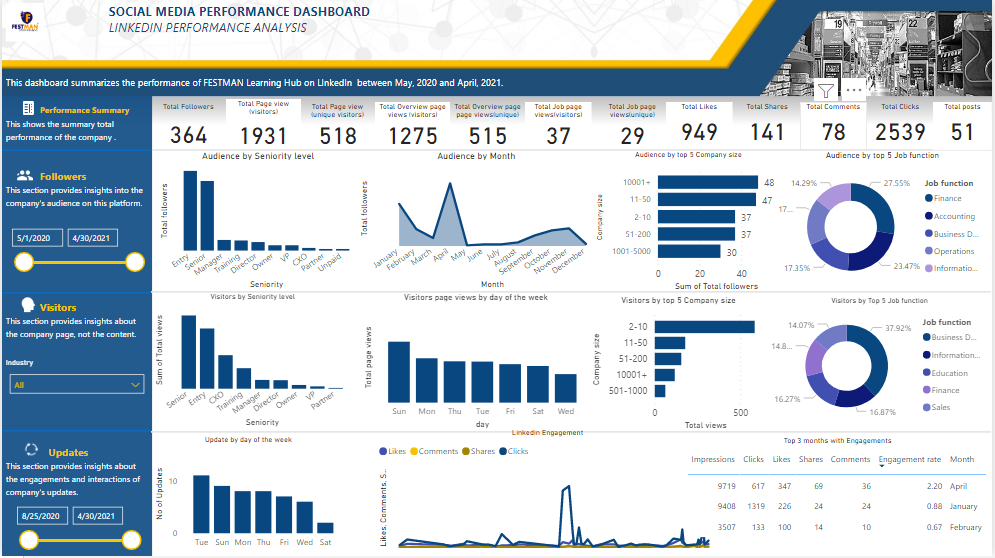

The dashboard page shown, as its layout file describes it:
{"tool":"powerbi","page":{"name":"Dashboard","canvas":[1280,720],"ordinal":0},"visuals":[{"type":"textbox","box":[133.5,0,434.9,78.5],"z":0},{"type":"image","box":[0,0,59,60],"z":1000},{"type":"textbox","box":[0,125,194,595],"z":2000},{"type":"shape","box":[0,178,194,34],"z":3000},{"type":"textbox","box":[0,93.2,989.2,32],"z":4000},{"type":"shape","box":[0,360,194,38],"z":5000},{"type":"shape","box":[0,539,194,38],"z":6000},{"type":"image","box":[15,125,37,31],"z":7000},{"type":"image","box":[8,212,44,32],"z":8000},{"type":"image","box":[15,379,37,33],"z":9000},{"type":"image","box":[23,567,29,29],"z":10000},{"type":"card","title":"Total Followers","fields":{"Values":["Sum(new follo.Total followers)"]},"box":[194,133,94,70],"z":11000},{"type":"card","title":"Total  Page view (visitors)","fields":{"Values":["Sum(visitors metrics.Total page views (total))"]},"box":[289,129,97,70],"z":12000},{"type":"card","title":"Total Page view (unique visitors)","fields":{"Values":["Sum(visitors metrics.Total unique visitors (total))"]},"box":[385,133,97,62],"z":13000},{"type":"card","title":"Total  Overview page views (visitors)","fields":{"Values":["Sum(visitors metrics.Overview page views (total))"]},"box":[482,133,97,62],"z":14000},{"type":"card","title":"Total Overview page  page views(unique)","fields":{"Values":["Sum(visitors metrics.Overview unique visitors (total))"]},"box":[579,133,97,62],"z":15000},{"type":"card","title":"Total Job page views(visitors)","fields":{"Values":["Sum(visitors metrics.Jobs page views (total))"]},"box":[676,133,86,62],"z":16000},{"type":"columnChart","title":"Audience by Seniority level","fields":{"Category":["seniority.Seniority"],"Y":["Sum(seniority.Total followers)"]},"box":[199,195,264,184],"z":17000},{"type":"card","title":"Total Job page views(unique)","fields":{"Values":["Sum(visitors metrics.Jobs unique visitors (total))"]},"box":[772,133,86,62],"z":18000},{"type":"card","title":"Total Likes","fields":{"Values":["Sum(Sheet1.Likes)"]},"box":[858,133,86,62],"z":19000},{"type":"card","title":"Total Shares","fields":{"Values":["Sum(Sheet1.Shares)"]},"box":[946,133,86,62],"z":20000},{"type":"card","title":"Total Comments","fields":{"Values":["Sum(Sheet1.Comments)"]},"box":[1032,133,86,62],"z":21000},{"type":"card","title":"Total Clicks","fields":{"Values":["Sum(Sheet1.Clicks)"]},"box":[1118,133,86,62],"z":22000},{"type":"shape","box":[194,168,1086,54],"z":23000},{"type":"slicer","fields":{"Values":["new follo.Date"]},"box":[0,287,193,73],"z":24000},{"type":"areaChart","title":"Audience by Month","fields":{"Category":["new follo.Date.Variation.Date Hierarchy.Month","new follo.Date.Variation.Date Hierarchy.Day"],"Y":["Sum(new follo.Total followers)"]},"box":[457,195,311,184],"z":25000},{"type":"donutChart","title":"Audience by top 5 Job function","fields":{"Category":["job function.Job function"],"Y":["Sum(job function.Total followers)"]},"box":[997,195,283,187],"z":26000},{"type":"clusteredBarChart","title":"Audience  by top 5 Company size","fields":{"Category":["company size.Company size"],"Y":["Sum(company size.Total followers)"]},"box":[763,195,249,187],"z":27000},{"type":"shape","box":[193,352,1086,54],"z":28000},{"type":"shape","box":[193,533,1086,54],"z":29000},{"type":"lineChart","title":"Linkedin Engagement","fields":{"Category":["Sheet1.Created date"],"Y":["Sum(Sheet1.Likes)","Sum(Sheet1.Comments)","Sum(Sheet1.Shares)","Sum(Sheet1.Clicks)"]},"box":[482,554,446,160],"z":30000},{"type":"slicer","fields":{"Values":["Sheet1.Created date"]},"box":[6,646,182,74],"z":31000},{"type":"tableEx","title":"Top 3 months with Engagements","fields":{"Values":["Sum(Sheet1.Impressions)","Sum(Sheet1.Clicks)","Sum(Sheet1.Likes)","Sum(Sheet1.Shares)","Sum(Sheet1.Comments)","Sum(Sheet1.Engagement rate)","Sheet1 (2).Created date.Variation.Date Hierarchy.Month"]},"box":[880,565,400,153],"z":32000},{"type":"donutChart","title":"Visitors by Top 5 Job function","fields":{"Category":["job function (2).Job function"],"Y":["Sum(job function (2).Total views)"]},"box":[989,384,291,170],"z":33000},{"type":"clusteredColumnChart","title":"Visitors by Seniority level","fields":{"Category":["seniority (2).Seniority"],"Y":["Sum(seniority (2).Total views)"]},"box":[193,379,263,179],"z":34000},{"type":"clusteredBarChart","title":"Visitors by top 5 Company size","fields":{"Category":["company size (2).Company size"],"Y":["Sum(company size (2).Total views)"]},"box":[758,382,234,179],"z":35000},{"type":"slicer","title":"Industry","fields":{"Values":["industry (2).Industry"]},"box":[0,464,194,57],"z":36000},{"type":"clusteredColumnChart","title":"Visitors page views  by day of the week","fields":{"Category":["visitors metrics (3).day"],"Y":["Sum(visitors metrics (3).Total page views (total))"]},"box":[463,379,300,181],"z":37000},{"type":"card","title":"Total posts","fields":{"Values":["CountNonNull(Sheet1.Update title)"]},"box":[1204,133,76,62],"z":38000},{"type":"columnChart","title":"Update by day of the week","fields":{"Category":["Sheet1 (3).day"],"Y":["CountNonNull(Sheet1 (3).Update title)"]},"box":[193,564,252,156],"z":39000}]}

Visuals, with their boxes in screenshot pixels (x1, y1, x2, y2), scaled from the page's 1280x720 canvas onto the 995x558 screenshot:
textbox: (104, 0, 442, 61)
image: (0, 0, 46, 46)
textbox: (0, 97, 151, 557)
shape: (0, 138, 151, 164)
textbox: (0, 72, 769, 97)
shape: (0, 279, 151, 308)
shape: (0, 418, 151, 447)
image: (12, 97, 40, 121)
image: (6, 164, 40, 189)
image: (12, 294, 40, 319)
image: (18, 439, 40, 462)
"Total Followers" card: (151, 103, 224, 157)
"Total  Page view (visitors)" card: (225, 100, 300, 154)
"Total Page view (unique visitors)" card: (299, 103, 375, 151)
"Total  Overview page views (visitors)" card: (375, 103, 450, 151)
"Total Overview page  page views(unique)" card: (450, 103, 525, 151)
"Total Job page views(visitors)" card: (525, 103, 592, 151)
"Audience by Seniority level" columnChart: (155, 151, 360, 294)
"Total Job page views(unique)" card: (600, 103, 667, 151)
"Total Likes" card: (667, 103, 734, 151)
"Total Shares" card: (735, 103, 802, 151)
"Total Comments" card: (802, 103, 869, 151)
"Total Clicks" card: (869, 103, 936, 151)
shape: (151, 130, 994, 172)
slicer - new follo.Date: (0, 222, 150, 279)
"Audience by Month" areaChart: (355, 151, 597, 294)
"Audience by top 5 Job function" donutChart: (775, 151, 994, 296)
"Audience  by top 5 Company size" clusteredBarChart: (593, 151, 787, 296)
shape: (150, 273, 994, 315)
shape: (150, 413, 994, 455)
"Linkedin Engagement" lineChart: (375, 429, 721, 553)
slicer - Sheet1.Created date: (5, 501, 146, 557)
"Top 3 months with Engagements" tableEx: (684, 438, 994, 556)
"Visitors by Top 5 Job function" donutChart: (769, 298, 994, 429)
"Visitors by Seniority level" clusteredColumnChart: (150, 294, 354, 432)
"Visitors by top 5 Company size" clusteredBarChart: (589, 296, 771, 435)
"Industry" slicer: (0, 360, 151, 404)
"Visitors page views  by day of the week" clusteredColumnChart: (360, 294, 593, 434)
"Total posts" card: (936, 103, 994, 151)
"Update by day of the week" columnChart: (150, 437, 346, 557)
